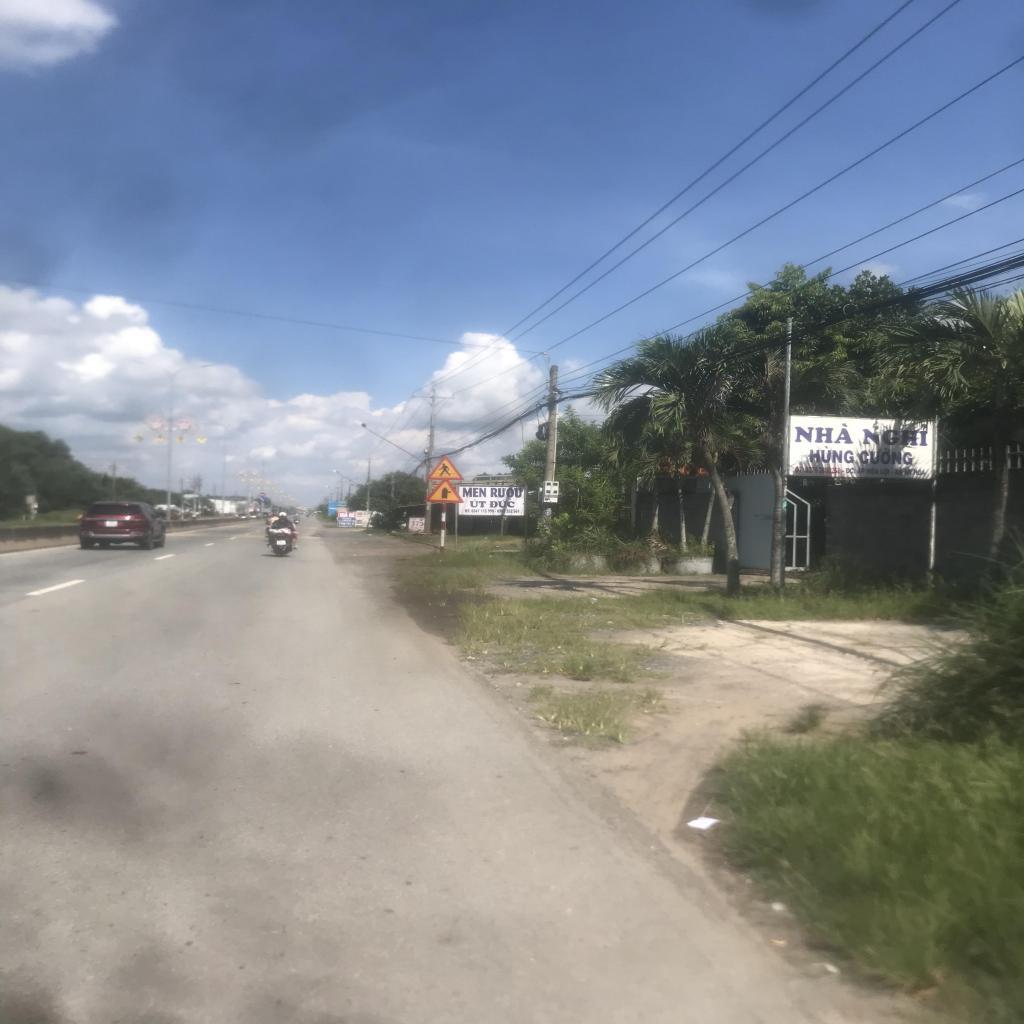cam_xe_di_nguoc_chieu: (260, 492, 266, 496)
chu_y_nguoi_di_bo_cat_ngang: (426, 454, 465, 480)
giao_nhau_voi_duong_khong_uu_tien: (423, 478, 466, 504)
huong_phai_di_vuot_chuong_ngai_vat_phai: (259, 497, 265, 502)
